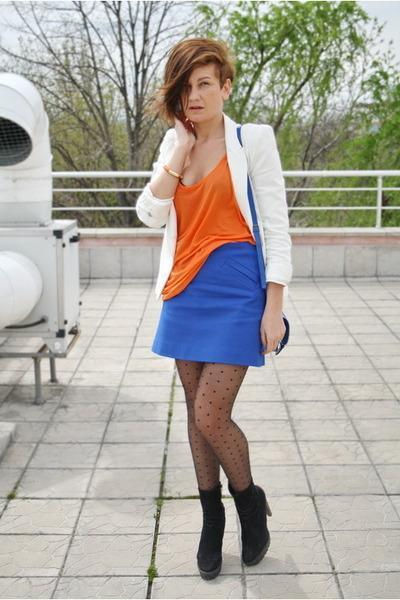jacket: (125, 113, 299, 307)
shirt: (161, 156, 251, 299)
shoe: (180, 478, 270, 580)
skirt: (152, 228, 269, 366)
